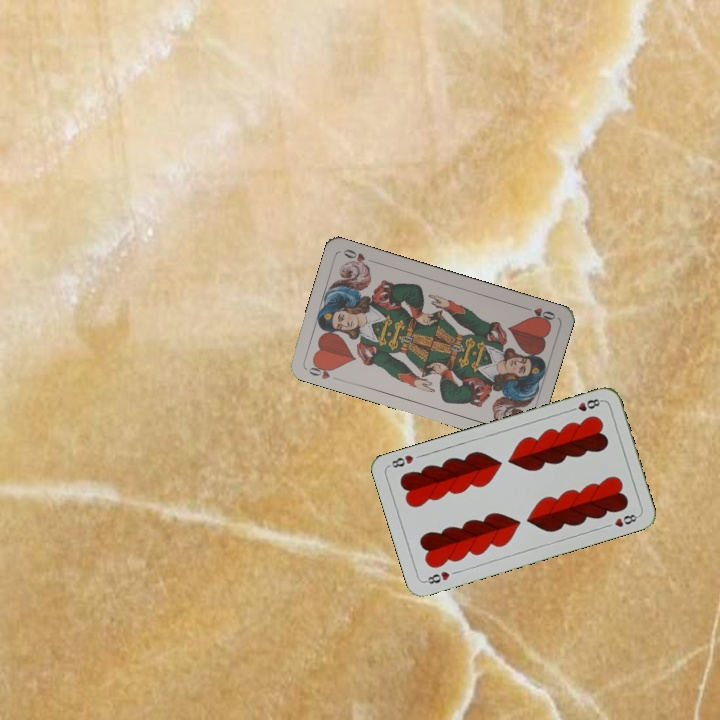H8: (565, 395, 605, 414), (421, 567, 452, 587)
HO: (519, 302, 558, 325), (304, 359, 337, 382)
